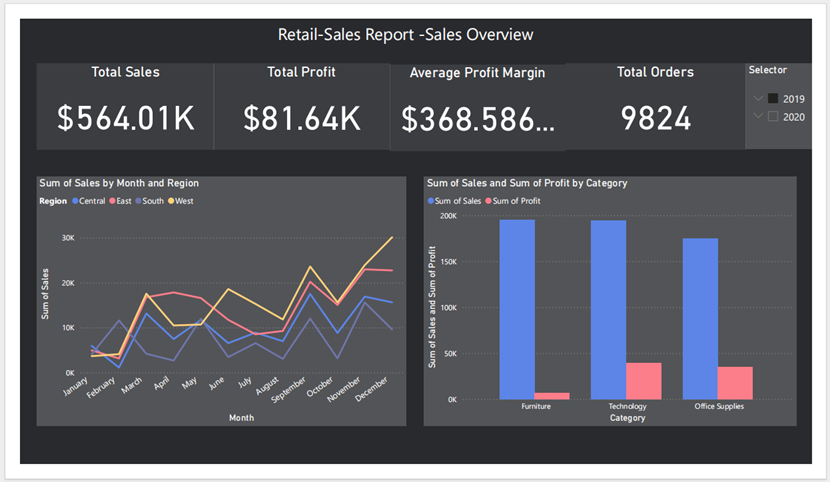

What the dashboard file says about the page in this screenshot:
{"tool":"powerbi","page":{"name":"Sales Overview","canvas":[1280,720],"ordinal":0},"visuals":[{"type":"card","title":"Total Sales","fields":{"Values":["Sum(Sales.Sales)"]},"box":[27.4,72,286.3,138.9],"z":0},{"type":"card","title":"Total Profit","fields":{"Values":["Sum(Sales.Profit)"]},"box":[313.3,71.7,285,140],"z":1000},{"type":"card","title":"Average Profit Margin","fields":{"Values":["Sum(Sales.Profit Margin)"]},"box":[598.3,71.7,286.7,140],"z":2000},{"type":"card","title":"Total Orders","fields":{"Values":["Sum(Sales.Quantity)"]},"box":[886.7,71.7,286.7,140],"z":3000},{"type":"lineChart","fields":{"Y":["Sum(Sales.Sales)"],"Series":["Sales.Region"],"Category":["DateTable.Date.Variation.Date Hierarchy.Year","DateTable.Date.Variation.Date Hierarchy.Quarter","DateTable.Date.Variation.Date Hierarchy.Month","DateTable.Date.Variation.Date Hierarchy.Day"]},"box":[27.4,255.4,596.6,402.9],"z":4000},{"type":"clusteredColumnChart","fields":{"Category":["Sales.Category"],"Y":["Sum(Sales.Sales)","Sum(Sales.Profit)"]},"box":[653.1,255.4,601.7,402.9],"z":5000},{"type":"slicer","title":"Selector","fields":{"Values":["DateTable.Year","DateTable.Quarter","DateTable.Month"]},"box":[1173.3,71.7,106.7,138.3],"z":6000},{"type":"textbox","box":[380,0,486.7,101.7],"z":6001}]}

Visuals, with their boxes on the page's 1280x720 design canvas (x1, y1, x2, y2). These are canvas units, not pixel positions in the 830x482 screenshot, which may show the page scaled, cropped or inside an application window:
"Total Sales" card: x1=27, y1=72, x2=314, y2=211
"Total Profit" card: x1=313, y1=72, x2=598, y2=212
"Average Profit Margin" card: x1=598, y1=72, x2=885, y2=212
"Total Orders" card: x1=887, y1=72, x2=1173, y2=212
lineChart - Sum(Sales.Sales) x Sales.Region: x1=27, y1=255, x2=624, y2=658
clusteredColumnChart - Sales.Category x Sum(Sales.Sales): x1=653, y1=255, x2=1255, y2=658
"Selector" slicer: x1=1173, y1=72, x2=1280, y2=210
textbox: x1=380, y1=0, x2=867, y2=102
